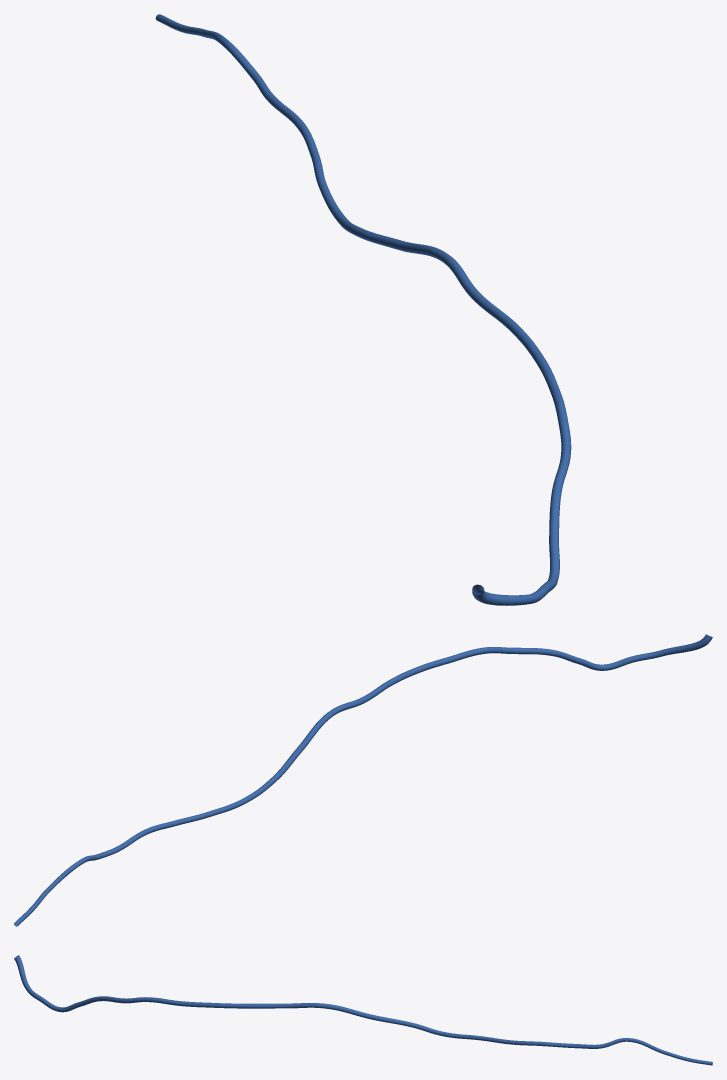
3 renders of one model, top to bottom at view 1: azimuth 30°, elevation 25°; view 2: azimuth 150°, elevation 25°; view 3: azimuth 270°, elevation 25°, orthographic. The views are drawn at different scales.
Parts seen in each view (by area): view 1: 左侧头静脉; view 2: 左侧头静脉; view 3: 左侧头静脉.
Part boxes in pixels (left/top/right/bottom): 左侧头静脉: left=155, top=14, right=571, bottom=605; 左侧头静脉: left=14, top=634, right=712, bottom=926; 左侧头静脉: left=14, top=955, right=712, bottom=1065.
Size of the model in its own units: 0.2648 by 0.0617 by 0.8322.
